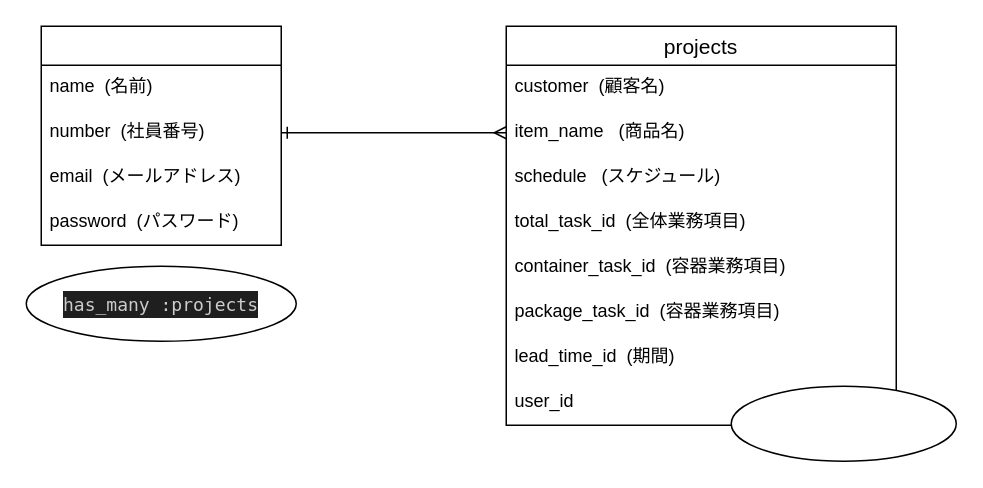
This 983x488 diagram has some shape labels left out. The shapes that lost their labels are listed below. From the top down, each one's box as (x1, y1, x2, y2) in pixels, then its label:
(40, 25, 281, 245): users
(730, 385, 956, 461): belongs_to :user
